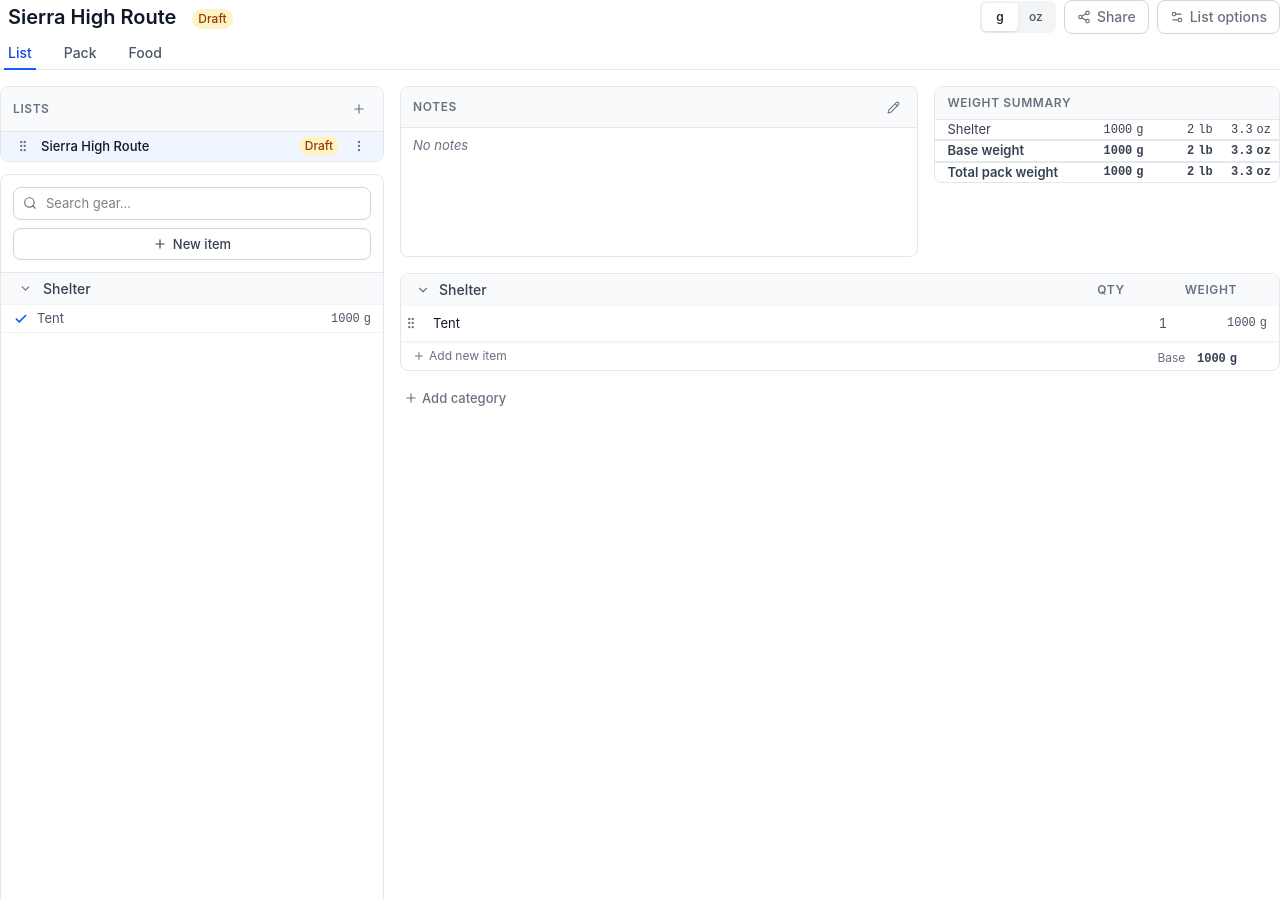
Test: the phone row tap editor › saves gear and list patches from the compact editor
Click the button with aria-label "Edit Tent".
click(446, 323)  # box [433,314,1267,333]
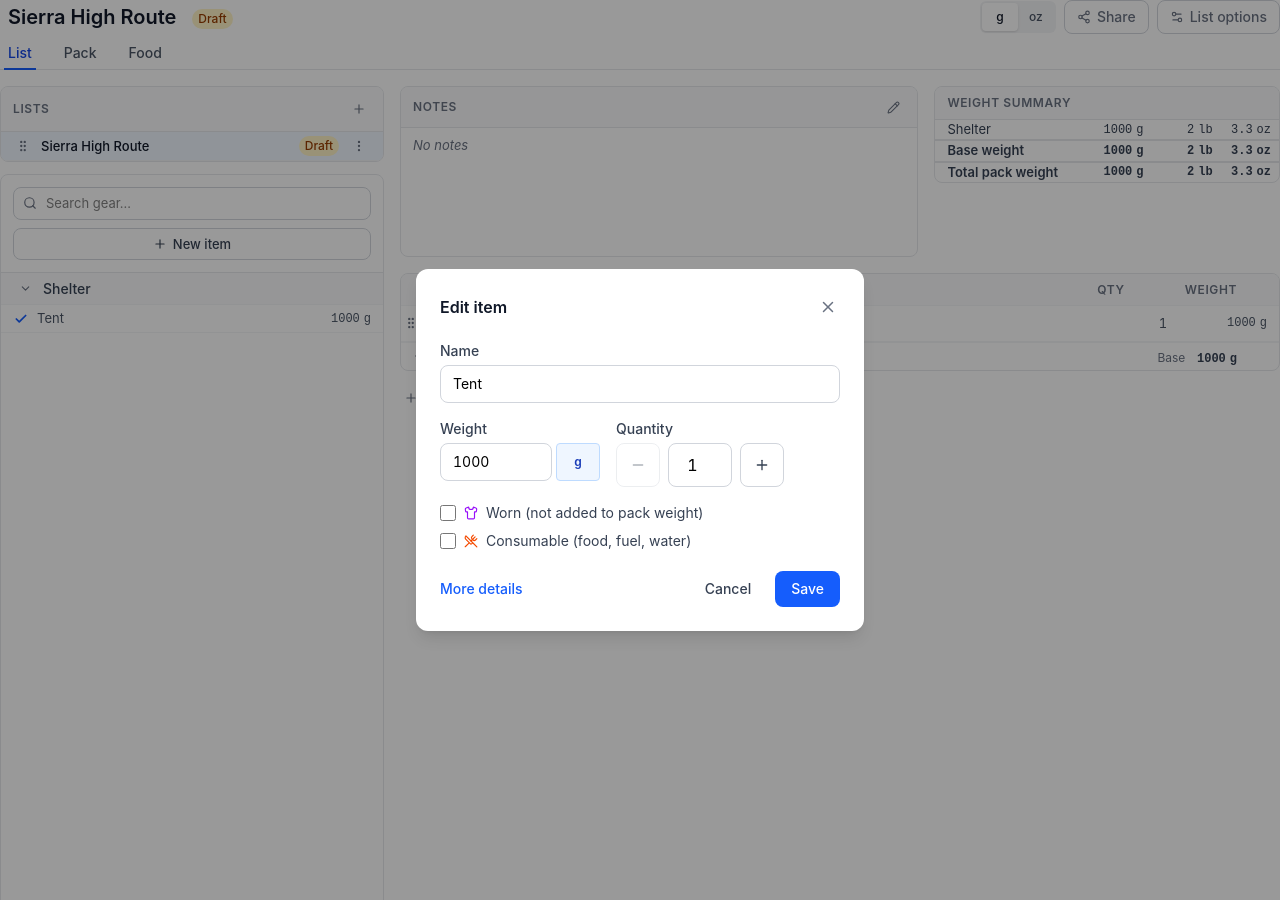
expect the heading "Edit item" is shown: met, box [440,295,507,319]
Replace the text in the field labelled "Name" with "Tent 2P" at point(640, 384), box [440,365,840,403]
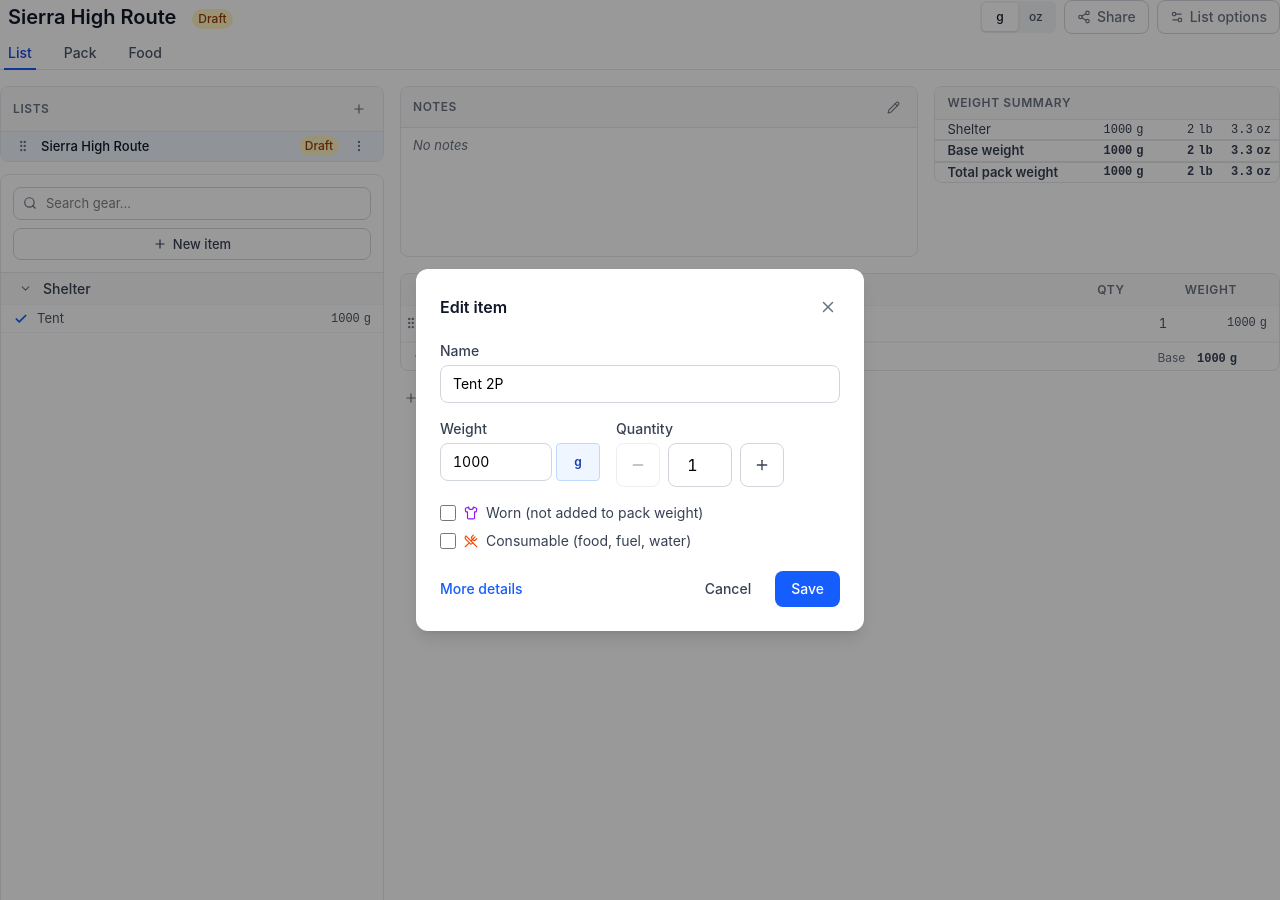
Click the checkbox labelled "Worn (not added to pack weight)".
click(448, 513)  # box [440,505,456,521]
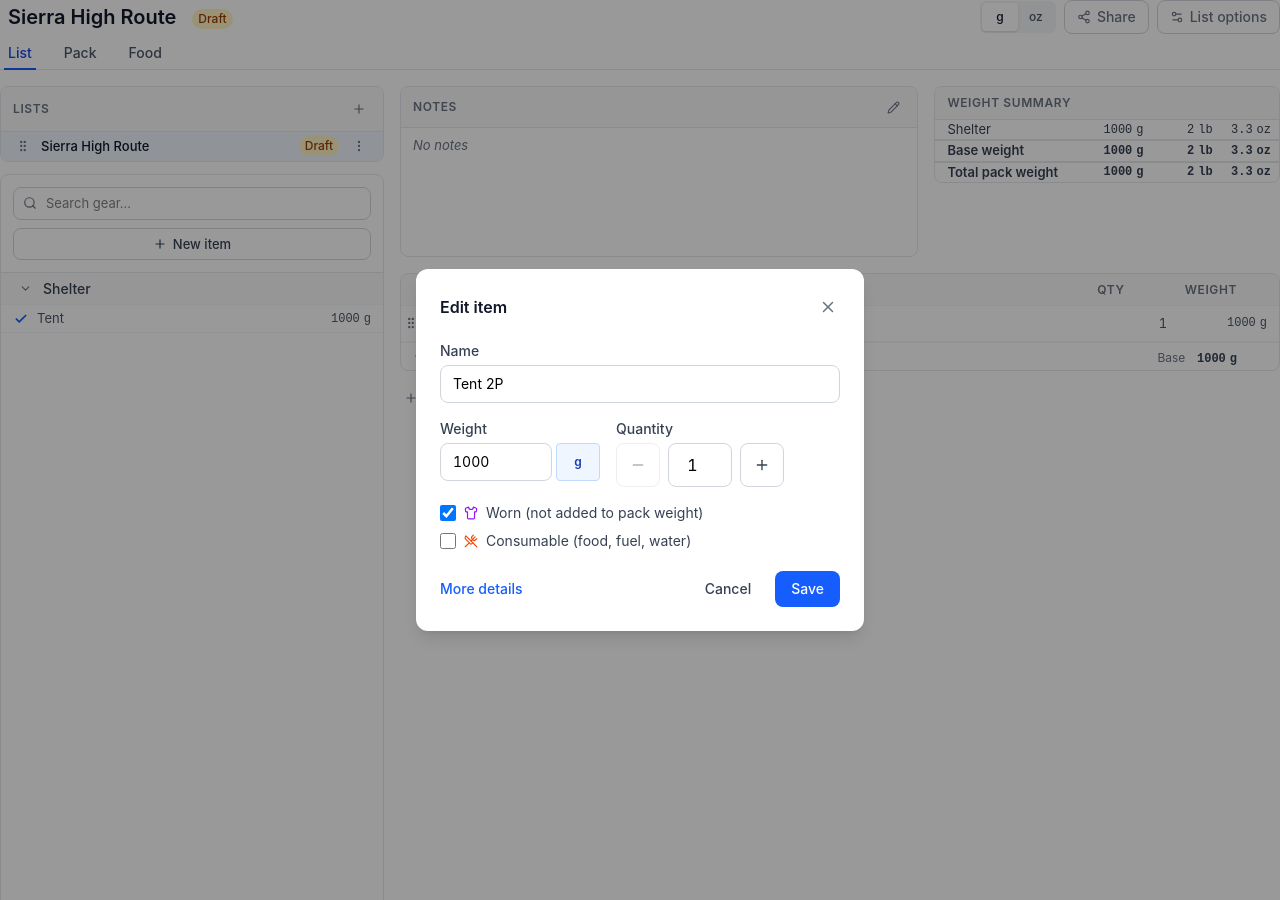
Click the button "Save".
click(808, 589)  # box [775,571,840,607]
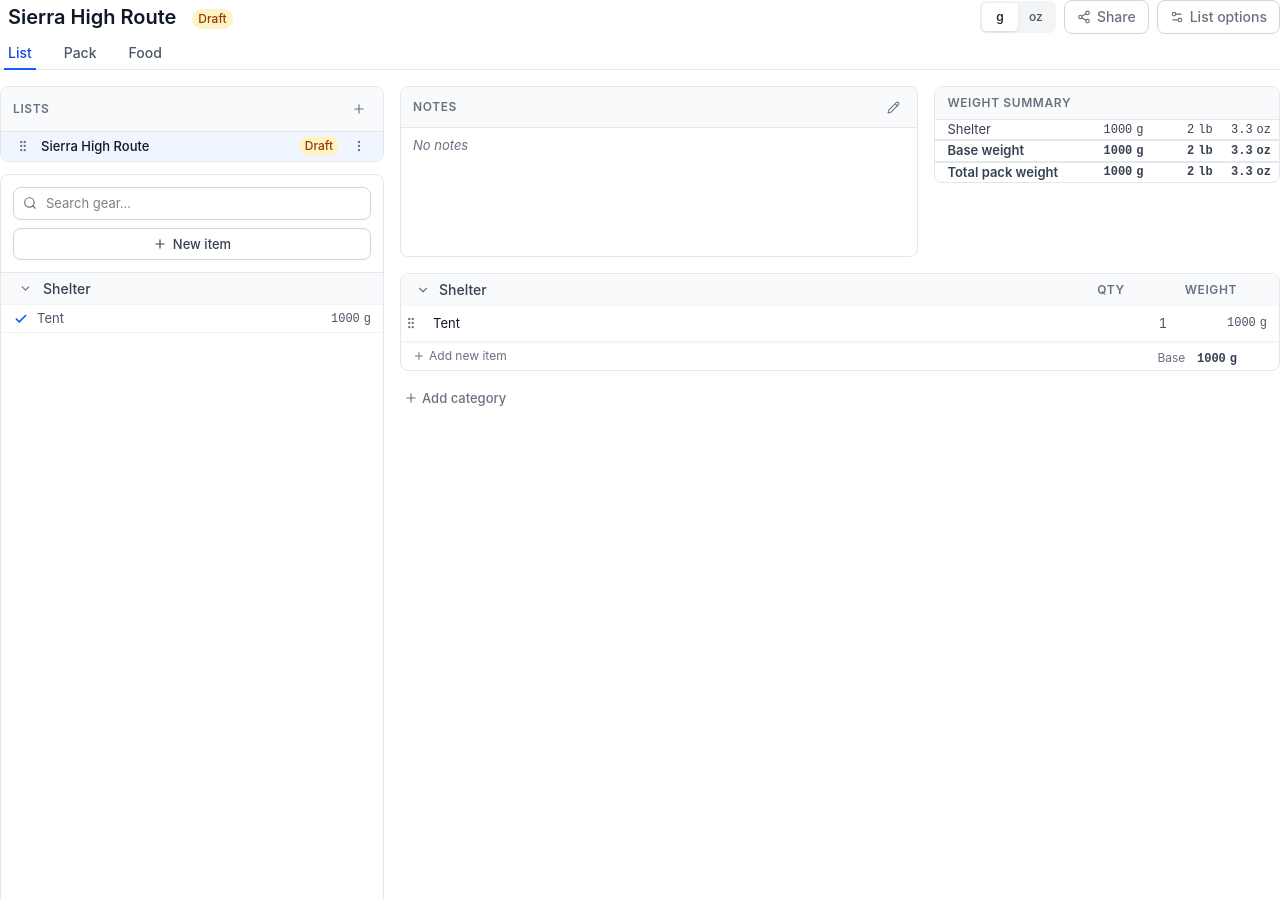
expect the heading "Edit item" is gone: met
